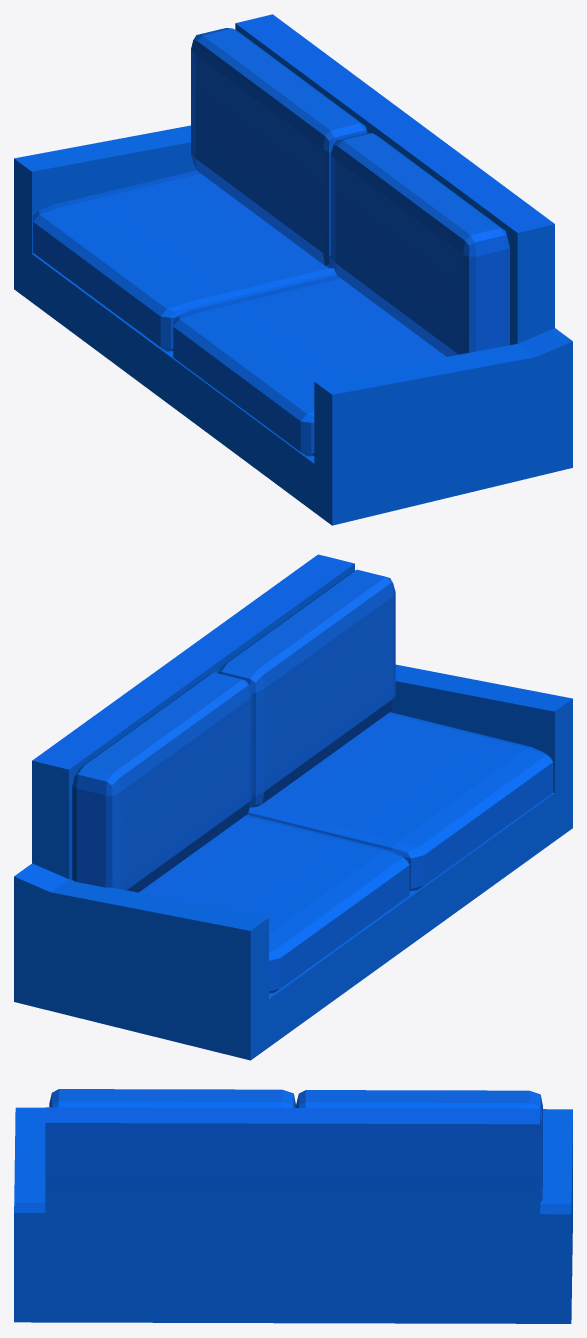
File: soooofa.fbx
3 renders of one model, top to bottom at view 1: azimuth 30°, elevation 25°; view 2: azimuth 150°, elevation 25°; view 3: azimuth 270°, elevation 25°, orthographic. The views are drawn at different scales.
Visible parts, largest first — view 1: Sofa; view 2: Sofa; view 3: Sofa.
Boxes of the visible parts, x1,y1,x2,y2 form: Sofa: (14, 14, 572, 525); Sofa: (14, 554, 572, 1060); Sofa: (14, 1089, 572, 1323).
Bounding box in the file's own units: 632 × 563 × 1417.
Materials: 1 (1 with a texture image).
